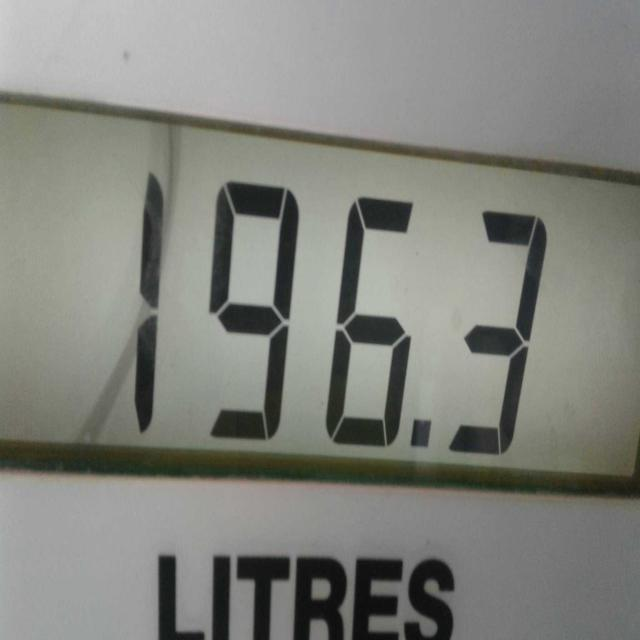.: (399, 412, 442, 464)
1: (118, 156, 183, 442)
3: (442, 205, 550, 464)
6: (313, 172, 426, 457)
9: (192, 176, 314, 455)
